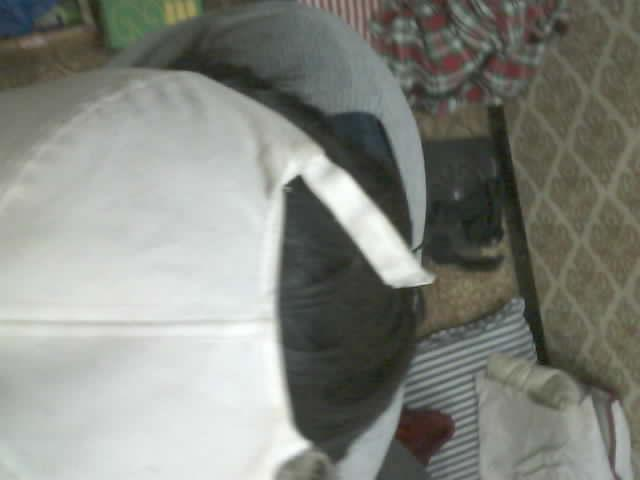cap: (0, 65, 434, 479)
